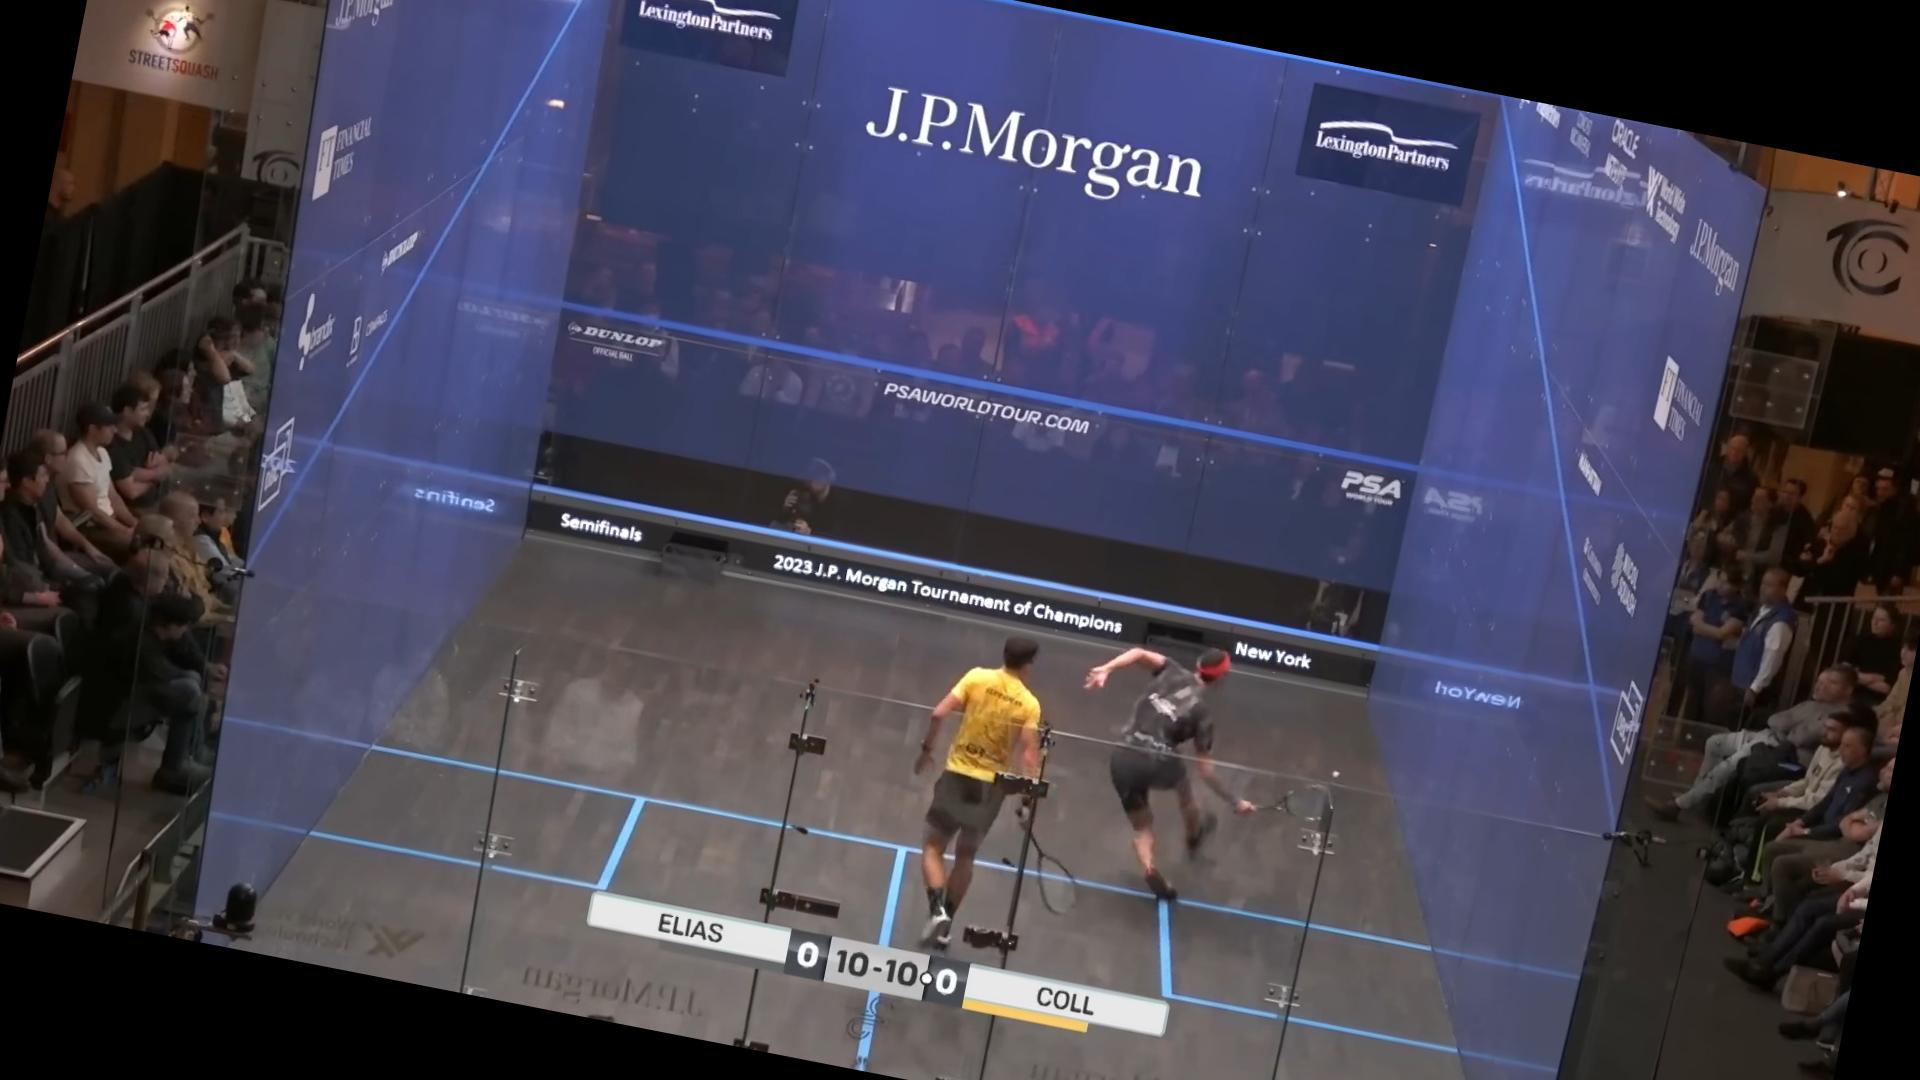Racket: (996, 814, 1093, 922), (1237, 764, 1345, 839)
